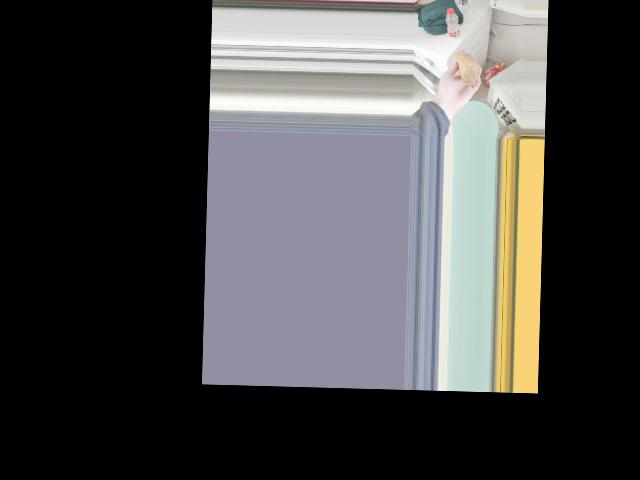sweet_potato: (455, 51, 478, 80)
